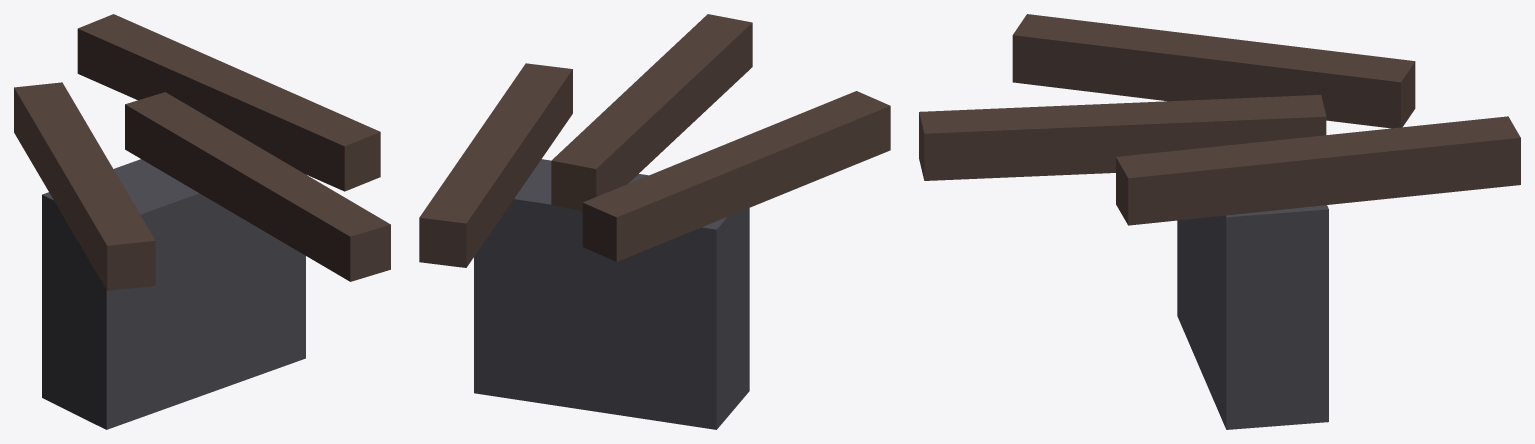
The model's file is EXTC_ThornCluster_00.glb.
The picture shows the model from 3 angles, left to right: view 1: azimuth 30°, elevation 25°; view 2: azimuth 150°, elevation 25°; view 3: azimuth 270°, elevation 25°; orthographic projection. The views are drawn at different scales.
Visible parts, largest first — view 1: EXTC_ThornCluster_00; view 2: EXTC_ThornCluster_00; view 3: EXTC_ThornCluster_00.
Boxes of the visible parts, box(x1,y1,x2,y2) form: EXTC_ThornCluster_00: box(14, 14, 390, 429); EXTC_ThornCluster_00: box(419, 14, 890, 429); EXTC_ThornCluster_00: box(919, 14, 1520, 429).
Bounding box in the file's own units: 0.5967 × 0.45 × 0.9231.
